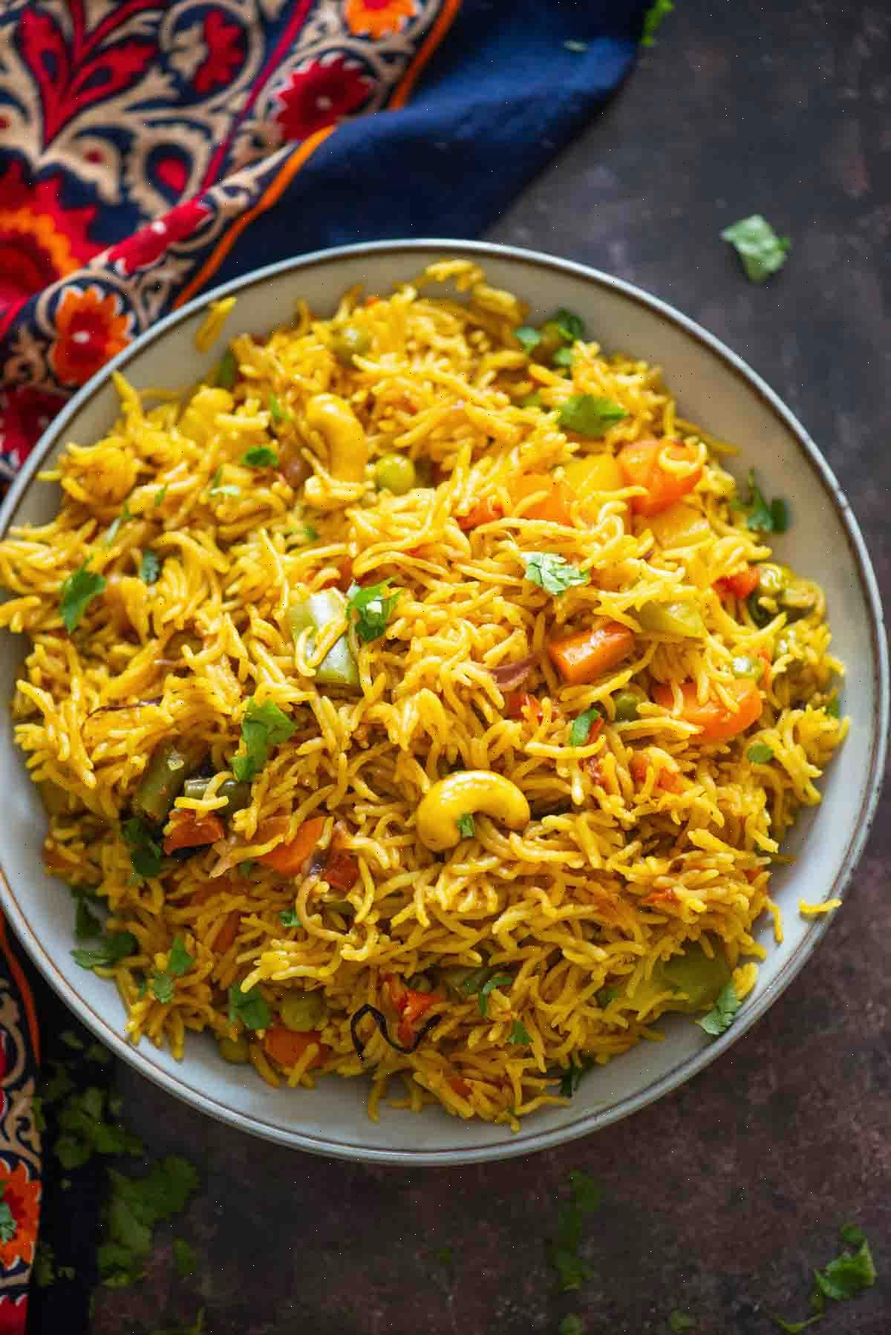veg-pulao: (53, 317, 807, 1052)
